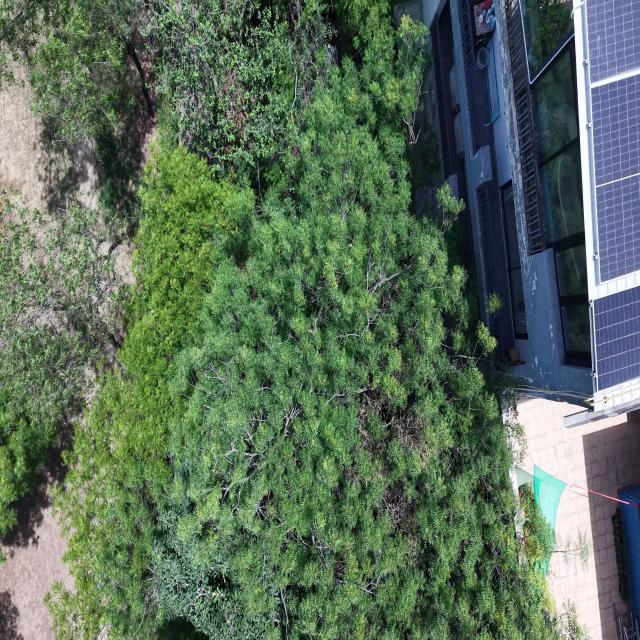DRY_AREA: (0, 67, 97, 212), (0, 457, 72, 639), (0, 466, 72, 639), (0, 472, 71, 639)
ROOFTOP_BUILDING: (396, 0, 639, 425)
VEGETATION_TREE: (0, 0, 559, 639), (52, 147, 253, 638), (0, 190, 119, 534), (151, 0, 331, 176), (0, 0, 154, 143), (516, 485, 590, 639), (520, 487, 555, 581), (534, 0, 571, 60), (612, 508, 630, 603), (559, 600, 590, 639)
